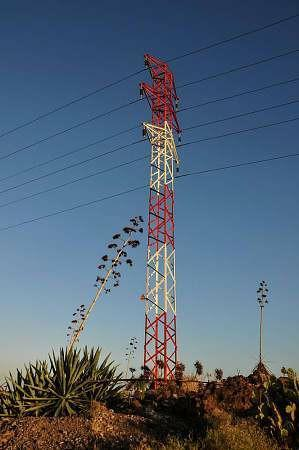power_tower: (132, 49, 195, 393)
